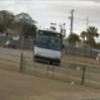buses: (32, 28, 65, 68)
